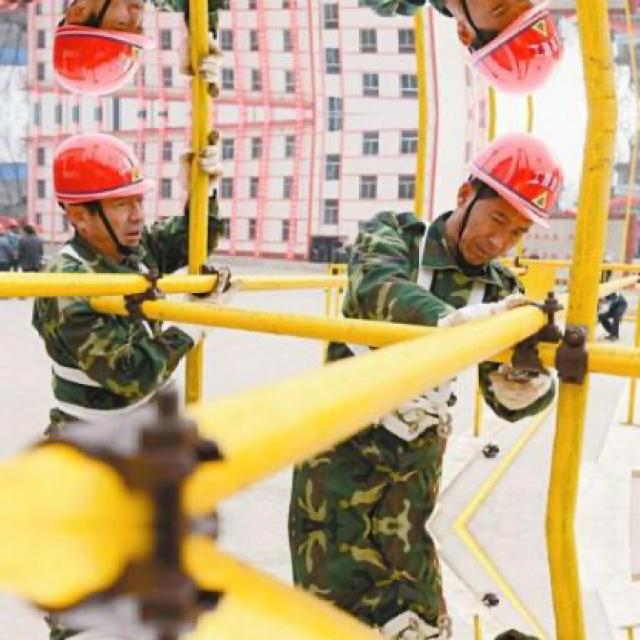helmet: (430, 119, 576, 273), (39, 118, 168, 260), (429, 0, 577, 111), (37, 0, 168, 111)
